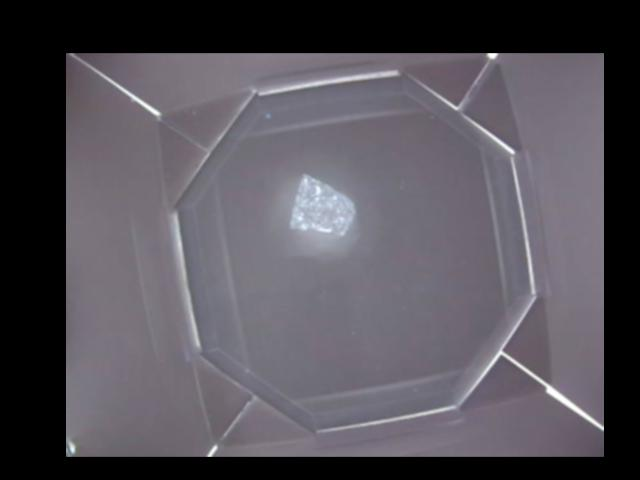China: (291, 173, 355, 234)
